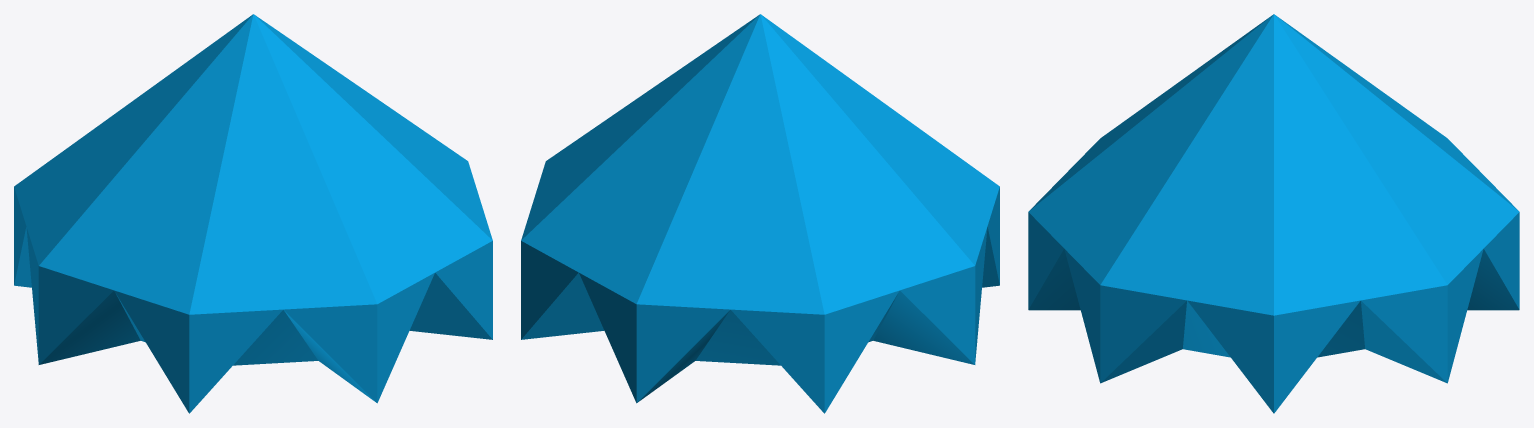
Rendered from crystal_pillar_top.fbx.
3 renders of one model, left to right at view 1: azimuth 30°, elevation 25°; view 2: azimuth 150°, elevation 25°; view 3: azimuth 270°, elevation 25°, orthographic.
Parts seen in each view (by area): view 1: crystal.pillar.top; view 2: crystal.pillar.top; view 3: crystal.pillar.top.
Boxes of the visible parts, x1,y1,x2,y2 form: crystal.pillar.top: [14, 14, 492, 413]; crystal.pillar.top: [521, 14, 999, 413]; crystal.pillar.top: [1028, 14, 1519, 413].
Size of the model in its own units: 90.08 by 60.01 by 90.08.
